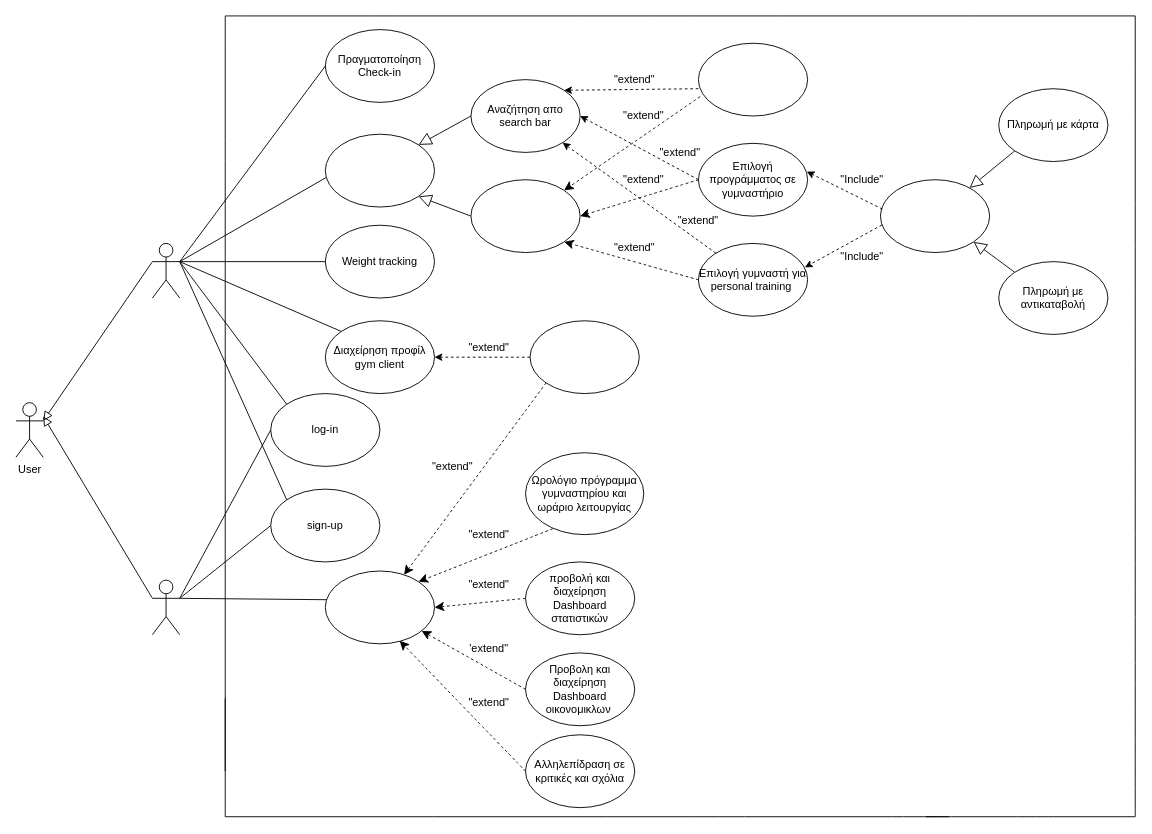
Image size: 1152x834. Some labels were removed from this diagram. Here are the shapes that lost their labels. From the top down, the centre of each, then its label:
point (753, 79): Αξιολόγηση και κριτικές
point (379, 170): Αναζήτηση γυμvαστηρίου
point (525, 216): Αναζήτηση με φίλτρα
point (935, 216): Πληρωμή
point (166, 270): gym_client
point (584, 357): Αλλαγή προωπικού κωδικού χρήστη
point (166, 607): gym_owner
point (379, 607): Διαχείρηση προφί λ Gym owner
